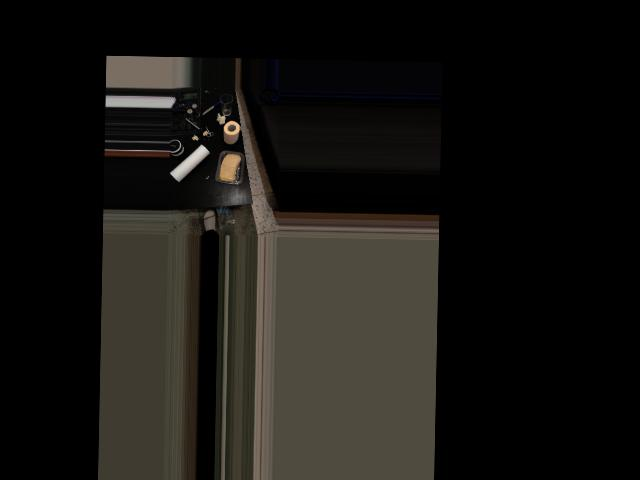cheese: (213, 149, 246, 188)
